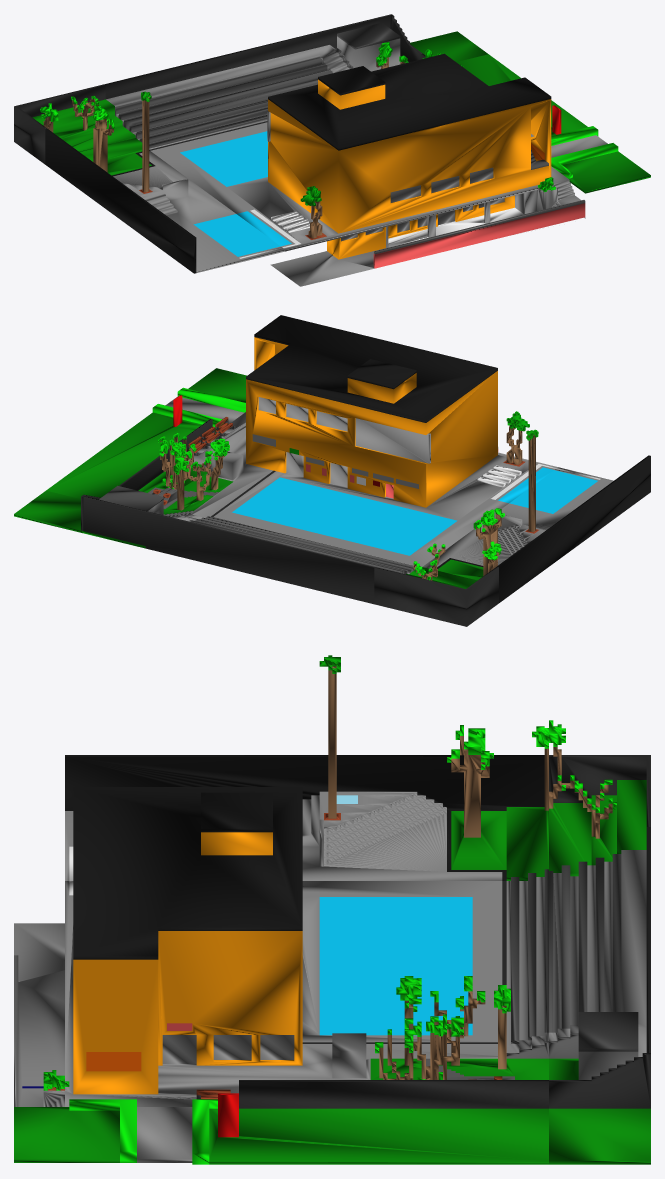
File: Bloque_2_textura_embed.fbx
The picture shows the model from 3 angles, top to bottom: view 1: azimuth 30°, elevation 25°; view 2: azimuth 150°, elevation 25°; view 3: azimuth 270°, elevation 25°; orthographic projection. The views are drawn at different scales.
Parts seen in each view (by area): view 1: Bloque 2 final-5, Bloque 2 final-4, Bloque 2 final-0, Bloque 2 final-3, Bloque 2 final-1, Bloque 2 final-2; view 2: Bloque 2 final-5, Bloque 2 final-4, Bloque 2 final-0, Bloque 2 final-3, Bloque 2 final-1, Bloque 2 final-2; view 3: Bloque 2 final-5, Bloque 2 final-4, Bloque 2 final-3, Bloque 2 final-0, Bloque 2 final-1, Bloque 2 final-2.
Part boxes in pixels (x1,y1,x2,y2): Bloque 2 final-5: (135, 41, 585, 286); Bloque 2 final-4: (45, 91, 284, 273); Bloque 2 final-0: (105, 14, 408, 134); Bloque 2 final-3: (421, 53, 650, 193); Bloque 2 final-1: (14, 84, 135, 164); Bloque 2 final-2: (390, 14, 488, 62); Bloque 2 final-5: (138, 315, 558, 574); Bloque 2 final-4: (409, 429, 650, 602); Bloque 2 final-0: (83, 485, 404, 604); Bloque 2 final-3: (46, 368, 246, 498); Bloque 2 final-1: (374, 541, 498, 626); Bloque 2 final-2: (14, 490, 100, 533); Bloque 2 final-5: (14, 787, 548, 1106); Bloque 2 final-4: (65, 655, 548, 880); Bloque 2 final-3: (14, 1080, 548, 1164); Bloque 2 final-0: (549, 827, 650, 1079); Bloque 2 final-1: (549, 720, 650, 876); Bloque 2 final-2: (549, 1053, 650, 1164).
Size of the model in its own units: 1960 by 580 by 1500.
